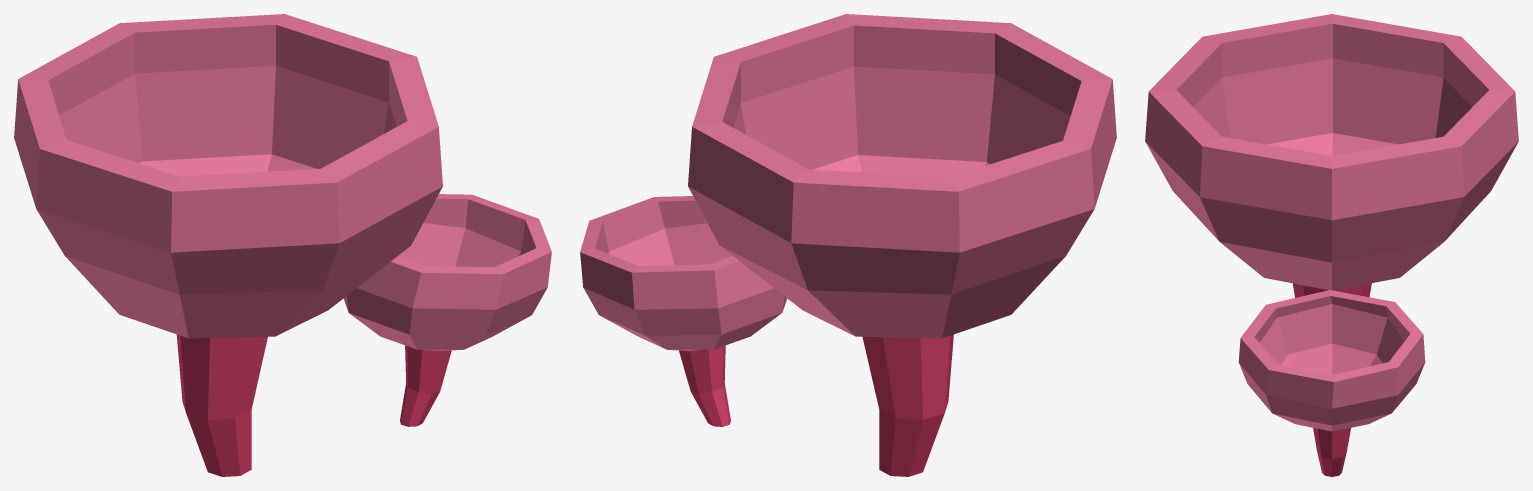
The model's file is Mushroom004.fbx.
3 views of the same model, side by side, from view 1: azimuth 30°, elevation 25°; view 2: azimuth 150°, elevation 25°; view 3: azimuth 270°, elevation 25° (orthographic). The views are drawn at different scales.
Parts seen in each view (by area): view 1: Mushroom004; view 2: Mushroom004; view 3: Mushroom004.
Part boxes in pixels (<box>): Mushroom004: <box>14,14,551,476</box>; Mushroom004: <box>580,14,1116,476</box>; Mushroom004: <box>1145,14,1518,476</box>.
Size of the model in its own units: 0.6514 by 0.4521 by 0.4969.
